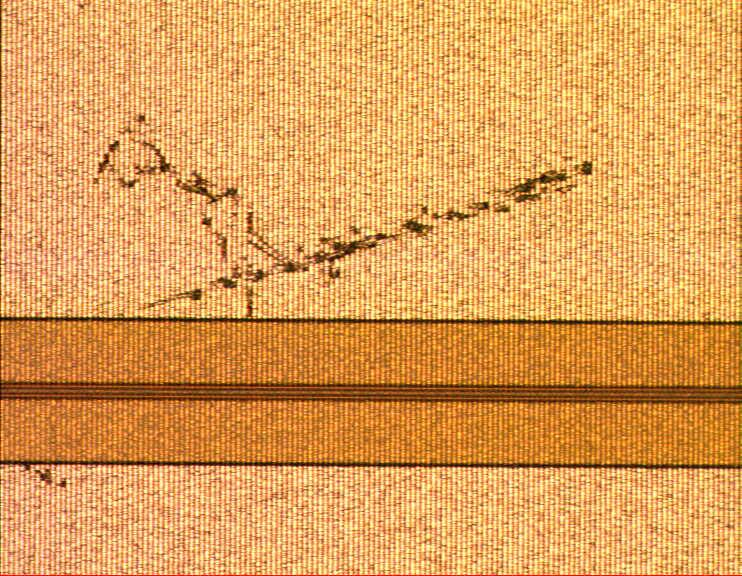SCRATCH: (85, 117, 601, 319)
